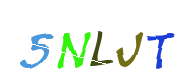5: (21, 0, 101, 80)
J: (76, 0, 156, 80)
L: (52, 0, 132, 80)
N: (32, 0, 112, 80)
T: (104, 0, 184, 80)
